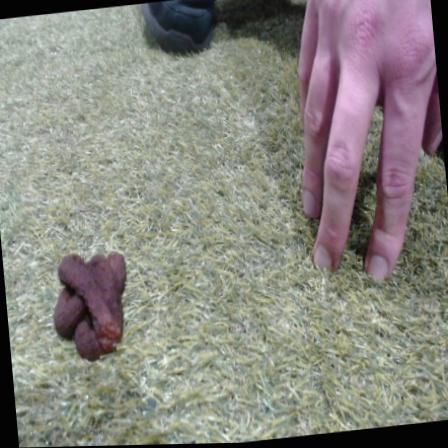dog-poop: (43, 243, 136, 362)
